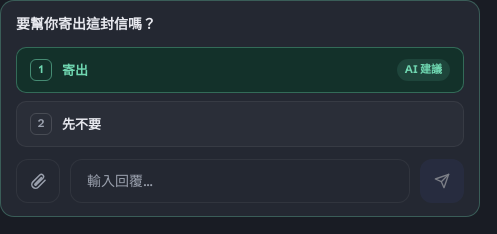
Scenario: ChatReplyCard › answering via the typed composer closes the card with the free text
Type "收件人是誰？" into the text box with placeholder "輸入回覆…" at (240, 181), box top-left (70, 159), bottom-right (410, 203)
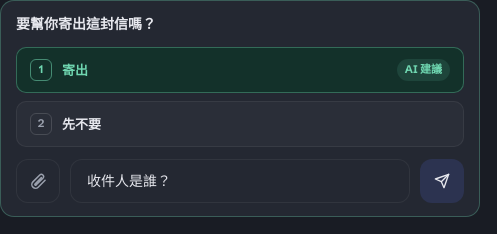
Press Enter in the text box with placeholder "輸入回覆…", box top-left (70, 159), bottom-right (410, 203)
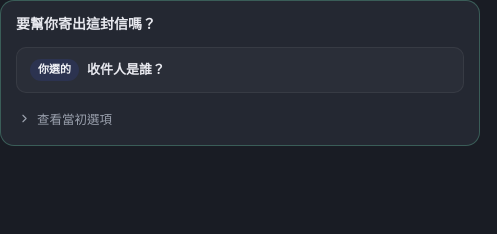
Check: the element with test id "final-answer" shows "收件人是誰？", box top-left (87, 61), bottom-right (165, 77)
Check: the element with test id "final-answer" shows "你選的", box top-left (38, 62), bottom-right (71, 76)
Check: the button with test id "final-answer" no longer shows "AI 建議"
